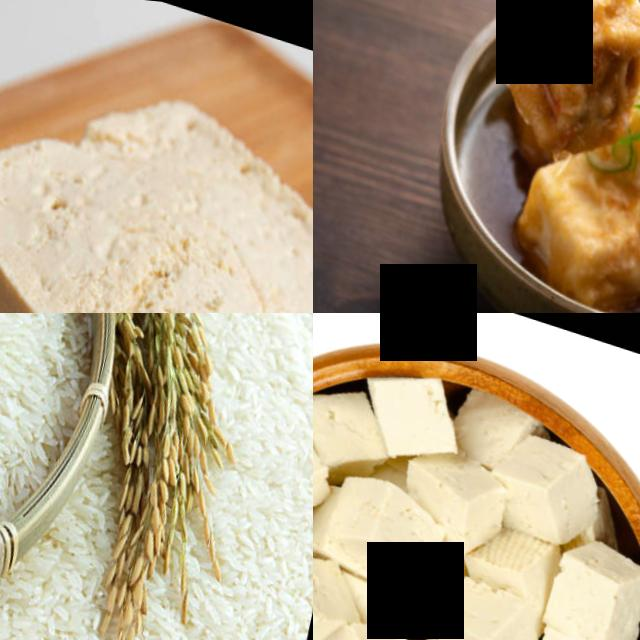tofu: (0, 11, 313, 313), (484, 0, 640, 157), (505, 144, 640, 303), (313, 455, 450, 594), (477, 412, 605, 550), (350, 352, 472, 470), (528, 513, 640, 640), (414, 553, 550, 640), (313, 600, 425, 640), (313, 387, 341, 535)
